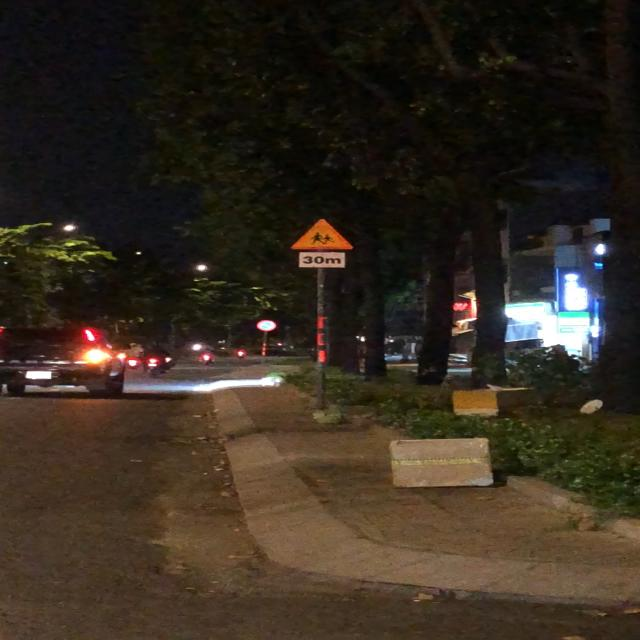Bien bao tre em: (288, 217, 356, 252)
